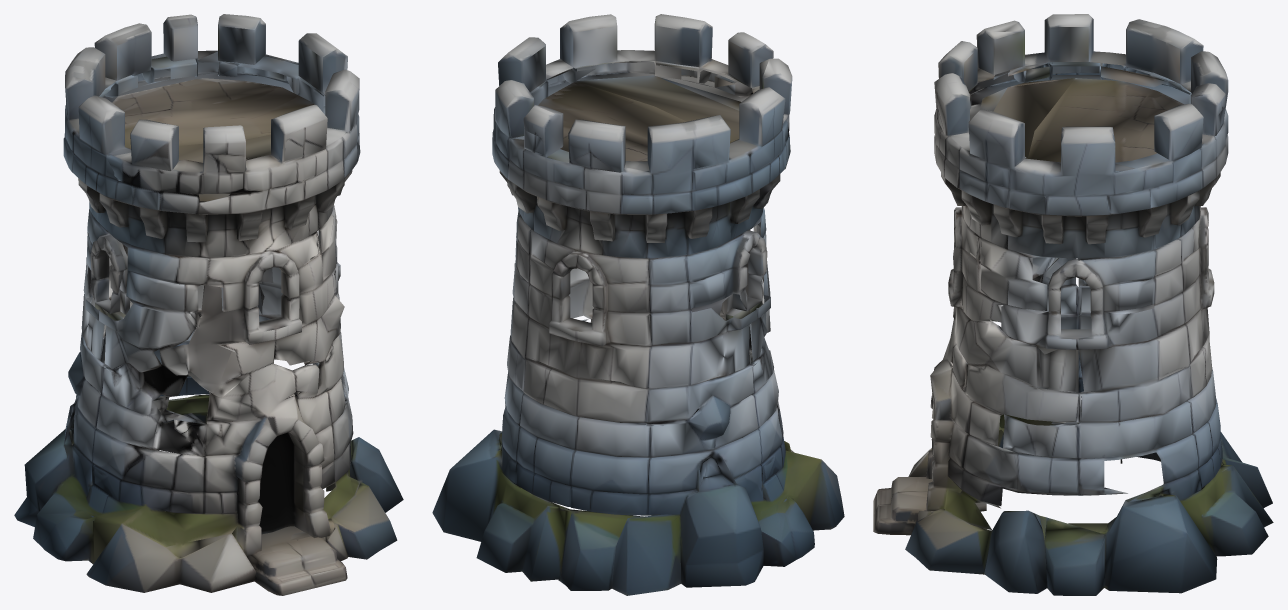
Rendered from world_tower.glb.
The picture shows the model from 3 angles, left to right: view 1: azimuth 30°, elevation 25°; view 2: azimuth 150°, elevation 25°; view 3: azimuth 270°, elevation 25°; orthographic projection.
Parts seen in each view (by area): view 1: material; view 2: material; view 3: material.
Part boxes in pixels (x1,y1,x2,y2): material: [14, 14, 403, 595]; material: [432, 14, 844, 595]; material: [873, 14, 1273, 595].
Bounding box in the file's own units: 1.47 × 1.9 × 1.55.
1 material, 1 textured.
